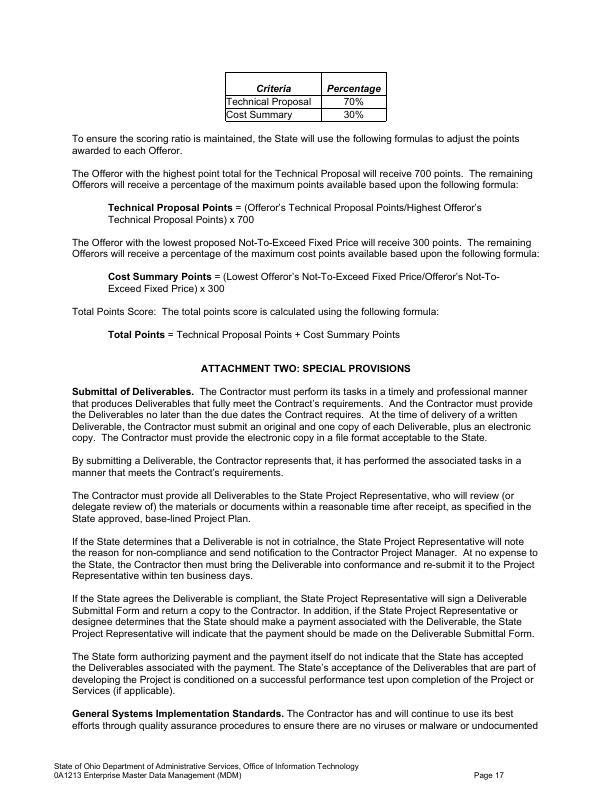table: (221, 68, 390, 124)
text: (65, 359, 549, 739), (68, 131, 549, 341), (50, 758, 361, 785), (471, 767, 506, 781)
